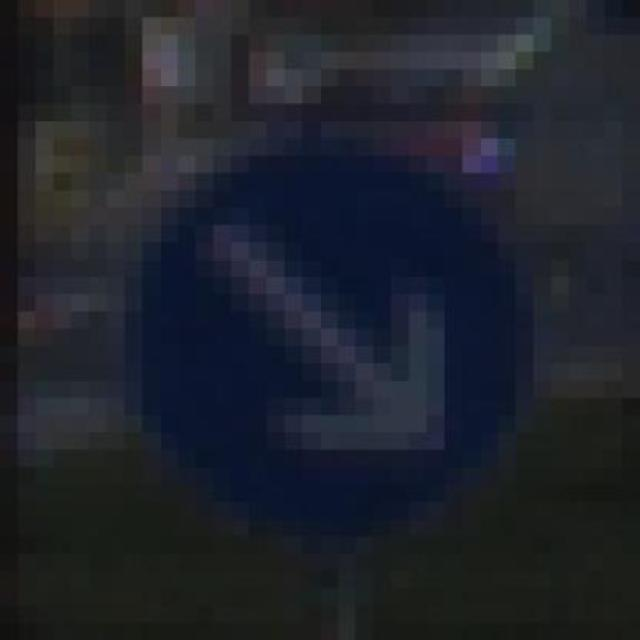Keep-Right: (96, 105, 559, 537)
